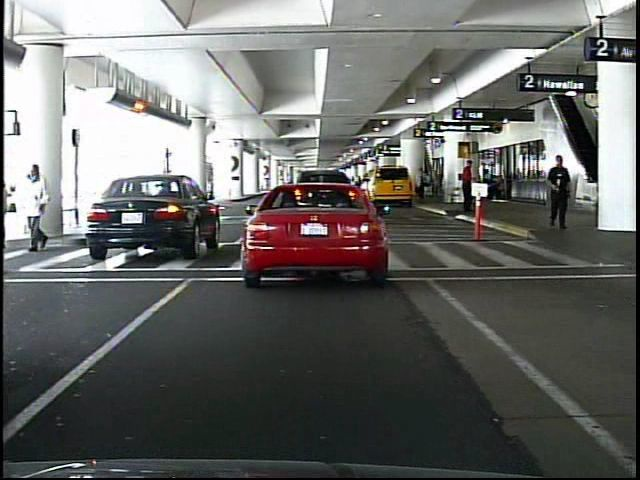person: (21, 158, 53, 255), (545, 152, 570, 232), (457, 158, 476, 215), (415, 166, 428, 202), (8, 175, 10, 247)
